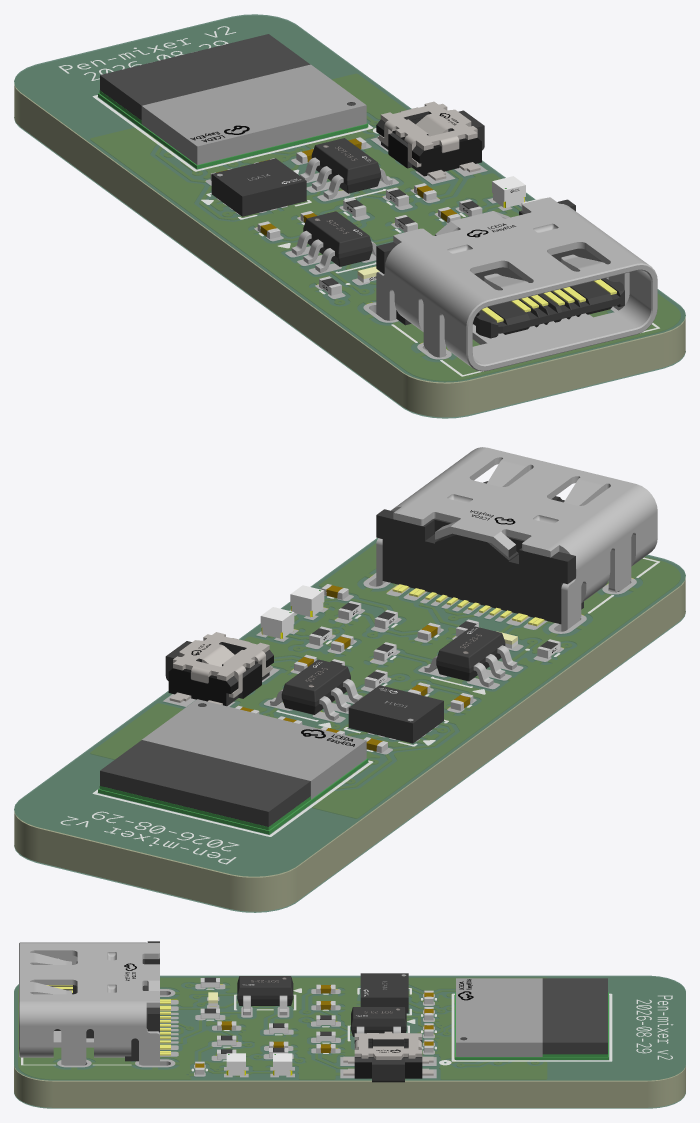
Rendered from pen-mixer.glb.
The picture shows the model from 3 angles, top to bottom: view 1: azimuth 30°, elevation 25°; view 2: azimuth 150°, elevation 25°; view 3: azimuth 270°, elevation 25°; orthographic projection. The views are drawn at different scales.
Visible parts, largest first — view 1: =>[0:1:1:24], =>[0:1:1:26], =>[0:1:1:13], =>[0:1:1:19], =>[0:1:1:20], =>[0:1:1:7] (×2), =>[0:1:1:11], =>[0:1:1:17], =>[0:1:1:21], =>[0:1:1:23], =>[0:1:1:25], =>[0:1:1:15]; view 2: =>[0:1:1:24], =>[0:1:1:26], =>[0:1:1:13], =>[0:1:1:19], =>[0:1:1:20], =>[0:1:1:7] (×2), =>[0:1:1:11], =>[0:1:1:21], =>[0:1:1:17], =>[0:1:1:23], =>[0:1:1:15] (×2), =>[0:1:1:25]; view 3: =>[0:1:1:24], =>[0:1:1:26], =>[0:1:1:13], =>[0:1:1:19], =>[0:1:1:20], =>[0:1:1:11], =>[0:1:1:7] (×2), =>[0:1:1:21], =>[0:1:1:23], =>[0:1:1:17], =>[0:1:1:15] (×2), =>[0:1:1:25].
Boxes of the visible parts, bbox=[...] form: =>[0:1:1:24]: bbox=[14, 14, 685, 382]; =>[0:1:1:26]: bbox=[14, 16, 685, 417]; =>[0:1:1:13]: bbox=[376, 197, 657, 371]; =>[0:1:1:19]: bbox=[98, 34, 368, 168]; =>[0:1:1:20]: bbox=[91, 74, 680, 380]; =>[0:1:1:7] (×2): bbox=[291, 138, 392, 272]; =>[0:1:1:11]: bbox=[376, 101, 484, 180]; =>[0:1:1:17]: bbox=[211, 158, 306, 216]; =>[0:1:1:21]: bbox=[205, 137, 618, 359]; =>[0:1:1:23]: bbox=[58, 26, 659, 376]; =>[0:1:1:25]: bbox=[14, 117, 685, 418]; =>[0:1:1:15]: bbox=[492, 176, 525, 207]; =>[0:1:1:24]: bbox=[14, 538, 685, 876]; =>[0:1:1:26]: bbox=[14, 540, 685, 911]; =>[0:1:1:13]: bbox=[376, 447, 657, 631]; =>[0:1:1:19]: bbox=[98, 699, 368, 834]; =>[0:1:1:20]: bbox=[91, 544, 680, 818]; =>[0:1:1:7] (×2): bbox=[270, 626, 517, 720]; =>[0:1:1:11]: bbox=[165, 632, 273, 706]; =>[0:1:1:21]: bbox=[163, 573, 636, 754]; =>[0:1:1:17]: bbox=[348, 685, 443, 743]; =>[0:1:1:23]: bbox=[60, 557, 659, 864]; =>[0:1:1:15] (×2): bbox=[260, 585, 324, 638]; =>[0:1:1:25]: bbox=[14, 611, 685, 912]; =>[0:1:1:24]: bbox=[14, 975, 685, 1080]; =>[0:1:1:26]: bbox=[14, 977, 685, 1107]; =>[0:1:1:13]: bbox=[19, 941, 170, 1065]; =>[0:1:1:19]: bbox=[455, 978, 608, 1059]; =>[0:1:1:20]: bbox=[18, 978, 546, 1079]; =>[0:1:1:11]: bbox=[343, 1031, 433, 1082]; =>[0:1:1:7] (×2): bbox=[237, 976, 406, 1036]; =>[0:1:1:21]: bbox=[57, 984, 436, 1078]; =>[0:1:1:23]: bbox=[21, 988, 673, 1071]; =>[0:1:1:17]: bbox=[360, 973, 408, 1013]; =>[0:1:1:15] (×2): bbox=[226, 1053, 292, 1075]; =>[0:1:1:25]: bbox=[14, 1092, 685, 1108].
Size of the model in its own units: 0.0134 by 0.00481 by 0.0349.
